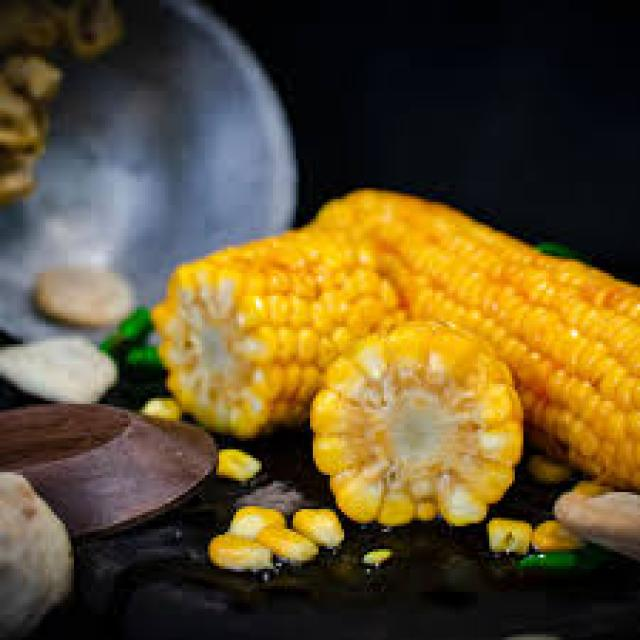corn: (299, 155, 640, 490), (138, 211, 415, 429), (317, 334, 525, 532), (195, 471, 350, 585)
